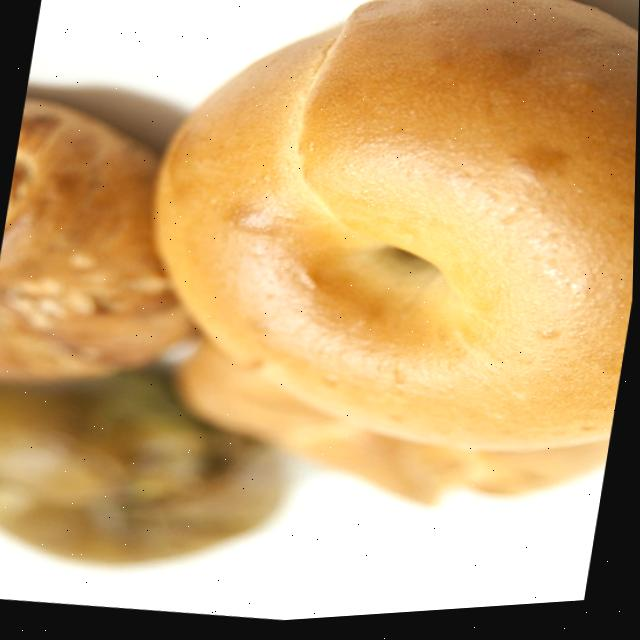面包点心: (96, 0, 640, 550)
